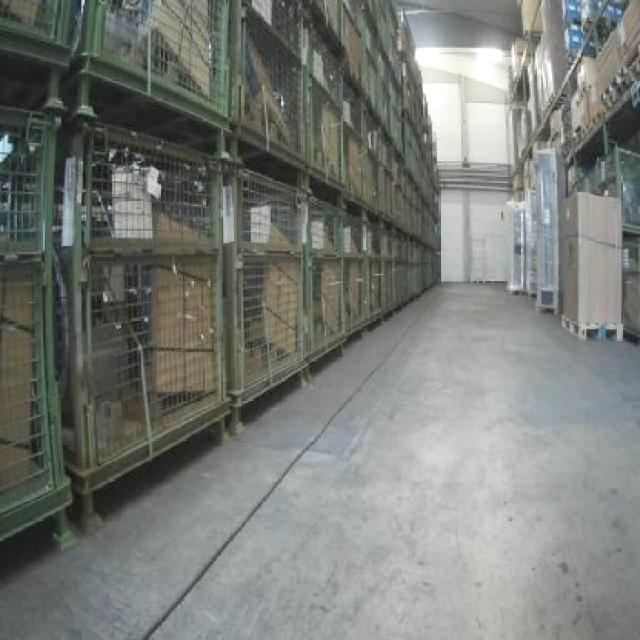floor: (0, 283, 637, 637)
pallets: (562, 191, 618, 337)
